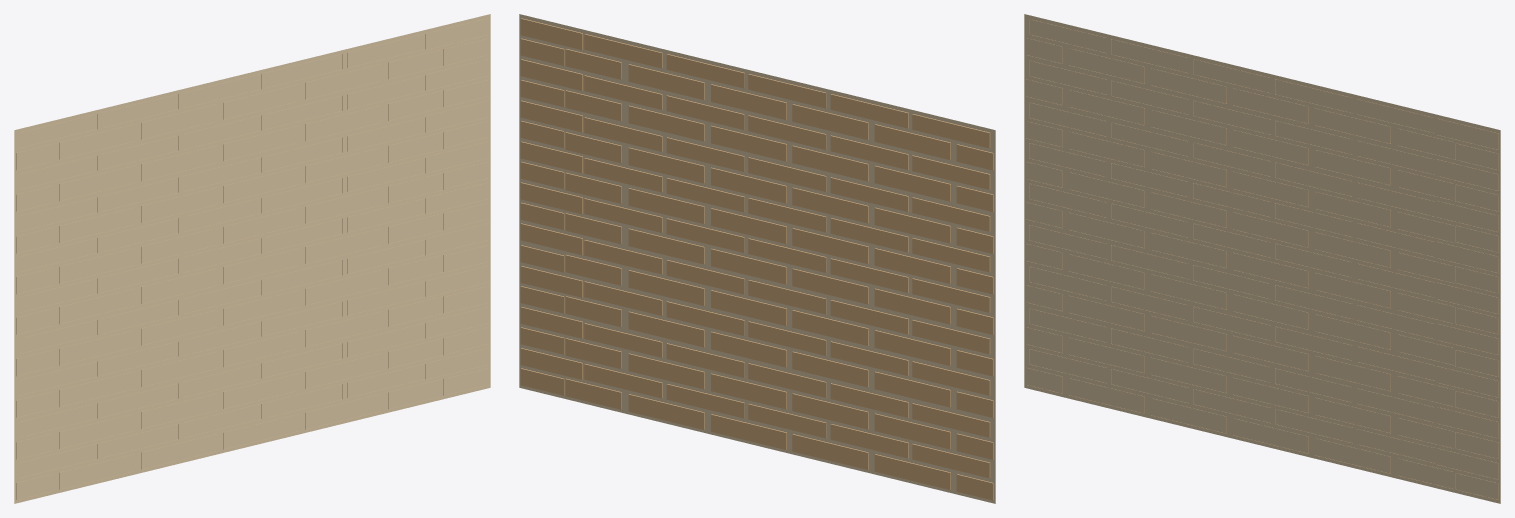
Rendered from AA_BaksteenMuur04_LOD0.fbx.
3 views of the same model, side by side, from view 1: azimuth 30°, elevation 25°; view 2: azimuth 150°, elevation 25°; view 3: azimuth 330°, elevation 25° (orthographic).
Visible parts, largest first — view 1: AA_Baksteenmuur04.001; view 2: AA_Baksteenmuur04.001; view 3: AA_Baksteenmuur04.001.
Boxes of the visible parts, x1=… form: AA_Baksteenmuur04.001: x1=14, y1=14, x2=490, y2=503; AA_Baksteenmuur04.001: x1=519, y1=14, x2=995, y2=503; AA_Baksteenmuur04.001: x1=1024, y1=14, x2=1500, y2=503.
Size of the model in its own units: 4 by 3 by 0.0109.
